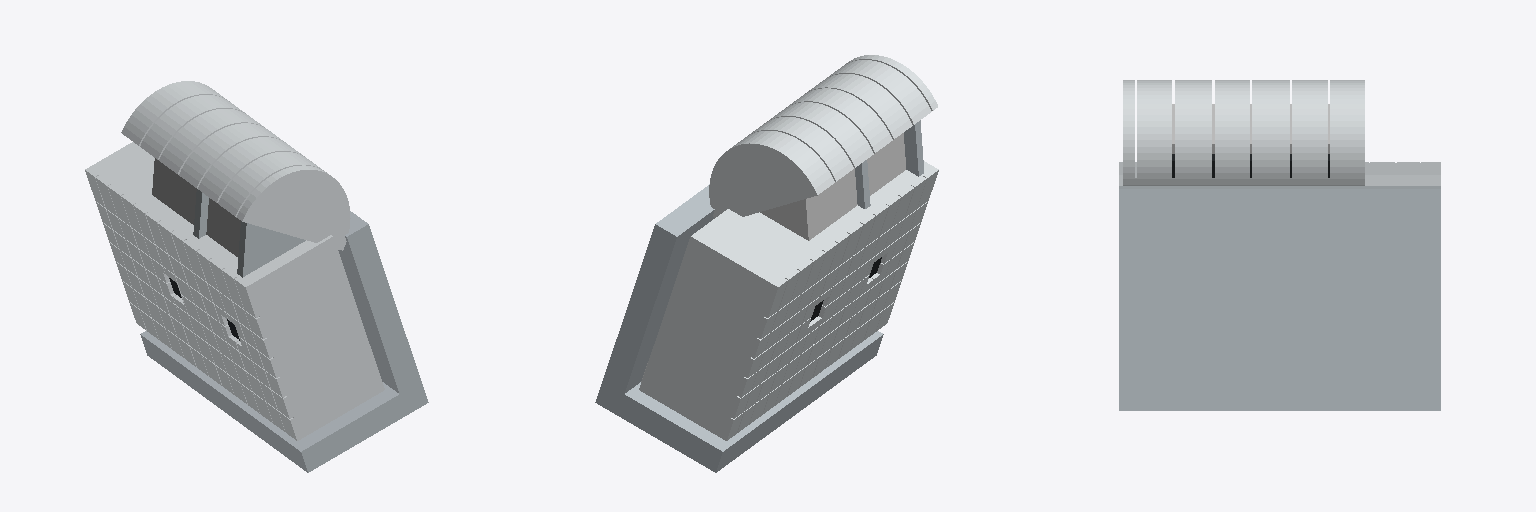
The model's file is tinker 1.obj.
3 renders of one model, left to right at view 1: azimuth 30°, elevation 25°; view 2: azimuth 150°, elevation 25°; view 3: azimuth 270°, elevation 25°, orthographic.
Visible parts, largest first — view 1: obj_0; view 2: obj_0; view 3: obj_0.
Boxes of the visible parts, x1,y1,x2,y2 form: obj_0: [85, 81, 428, 472]; obj_0: [595, 55, 938, 472]; obj_0: [1119, 80, 1440, 410].
Size of the model in its own units: 13.9 by 21.78 by 20.98.